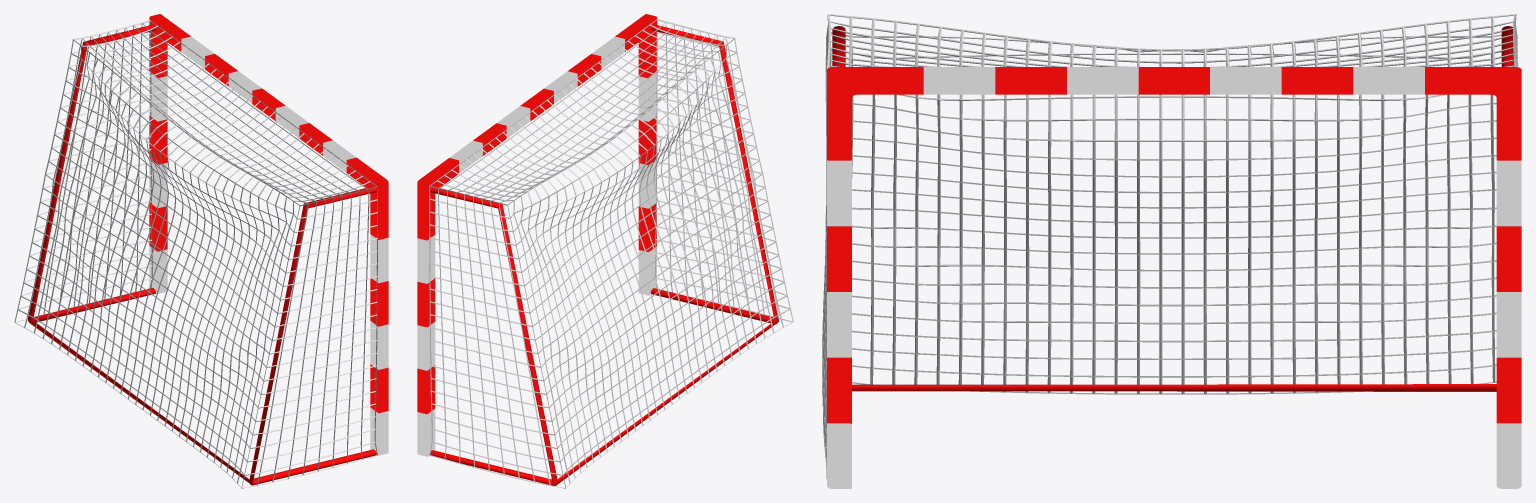
Rendered from porteria_futbol_sala_2.glb.
The picture shows the model from 3 angles, left to right: view 1: azimuth 30°, elevation 25°; view 2: azimuth 150°, elevation 25°; view 3: azimuth 270°, elevation 25°; orthographic projection. The views are drawn at different scales.
Parts seen in each view (by area): view 1: Net_3, Goal_2, Support.001_5; view 2: Net_3, Goal_2, Support.001_5; view 3: Net_3, Goal_2, Support.001_5.
Part boxes in pixels (bbox=[...]): Net_3: bbox=[14, 20, 377, 488]; Goal_2: bbox=[149, 14, 388, 455]; Support.001_5: bbox=[28, 24, 376, 485]; Net_3: bbox=[429, 19, 793, 488]; Goal_2: bbox=[417, 14, 656, 456]; Support.001_5: bbox=[430, 24, 778, 485]; Net_3: bbox=[822, 14, 1518, 478]; Goal_2: bbox=[827, 67, 1521, 488]; Support.001_5: bbox=[832, 26, 1514, 391].
Size of the model in its own units: 1.17 by 2.11 by 3.18.
